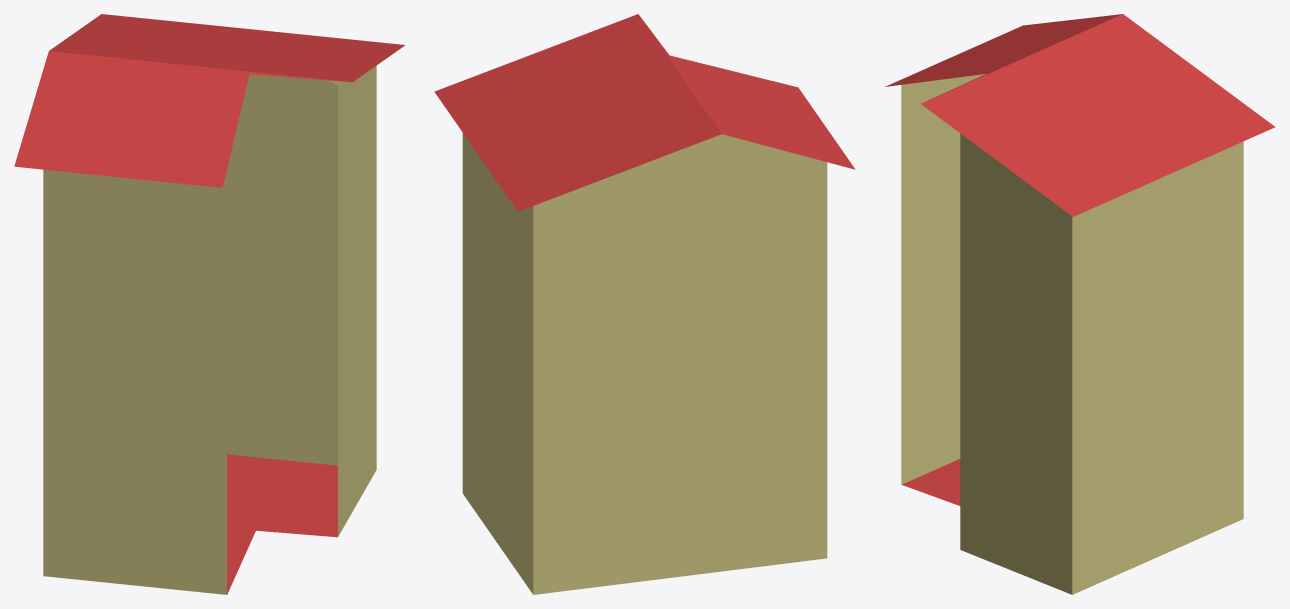
The picture shows the model from 3 angles, left to right: view 1: azimuth 30°, elevation 25°; view 2: azimuth 150°, elevation 25°; view 3: azimuth 270°, elevation 25°; orthographic projection. The views are drawn at different scales.
Size of the model in its own units: 10.03 by 8.66 by 10.82.
